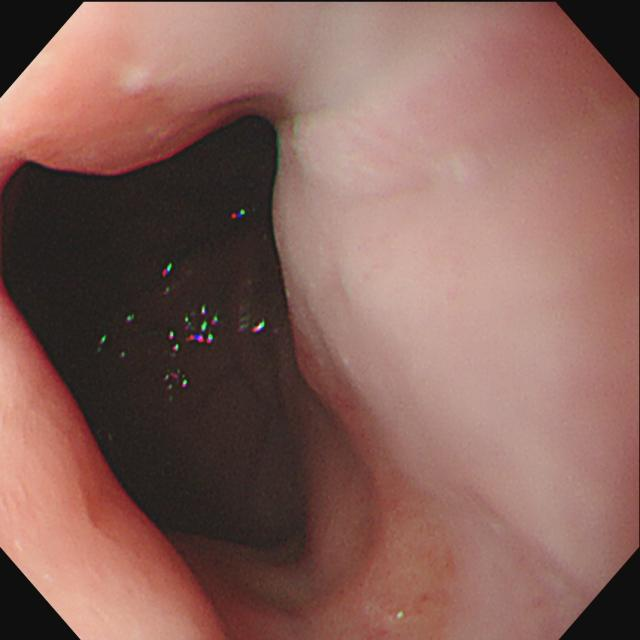E: (11, 113, 302, 560)
U: (162, 260, 222, 400)
